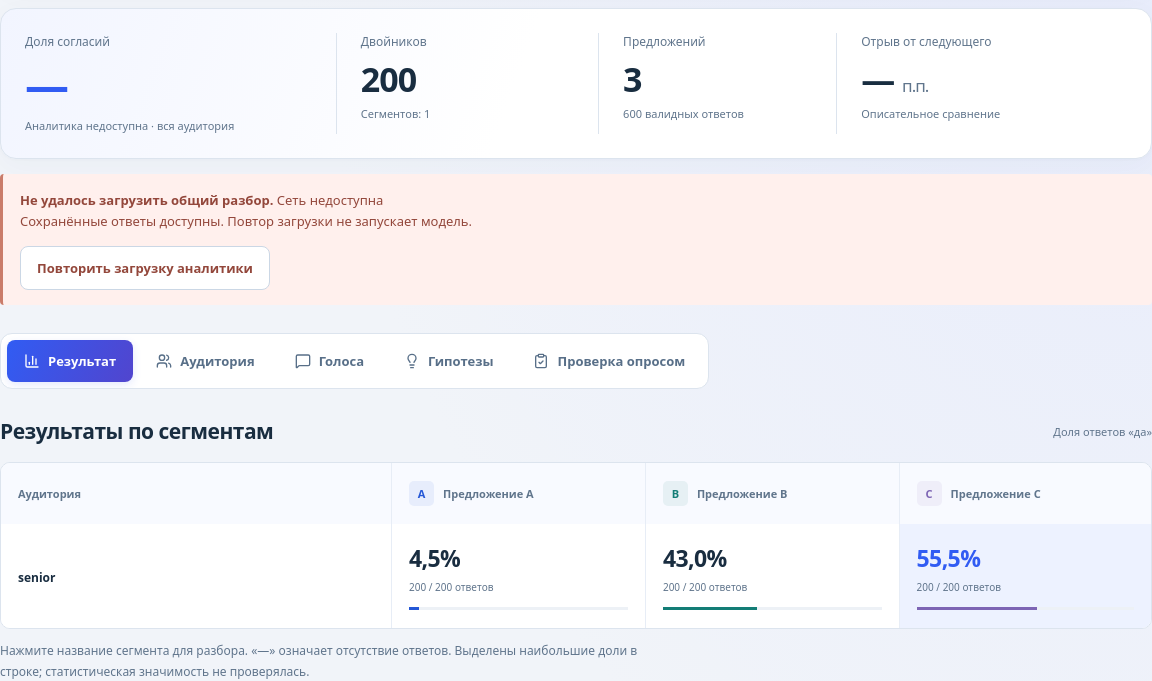
Scenario: stops loading after an error and recovers without rerunning a model
(page scrolled)
Expected: the message shows "Сеть недоступна", 277,191 -> 383,209
Click the tab "Гипотезы".
click(449, 361)  # box 387,340 -> 510,382
(page scrolled)
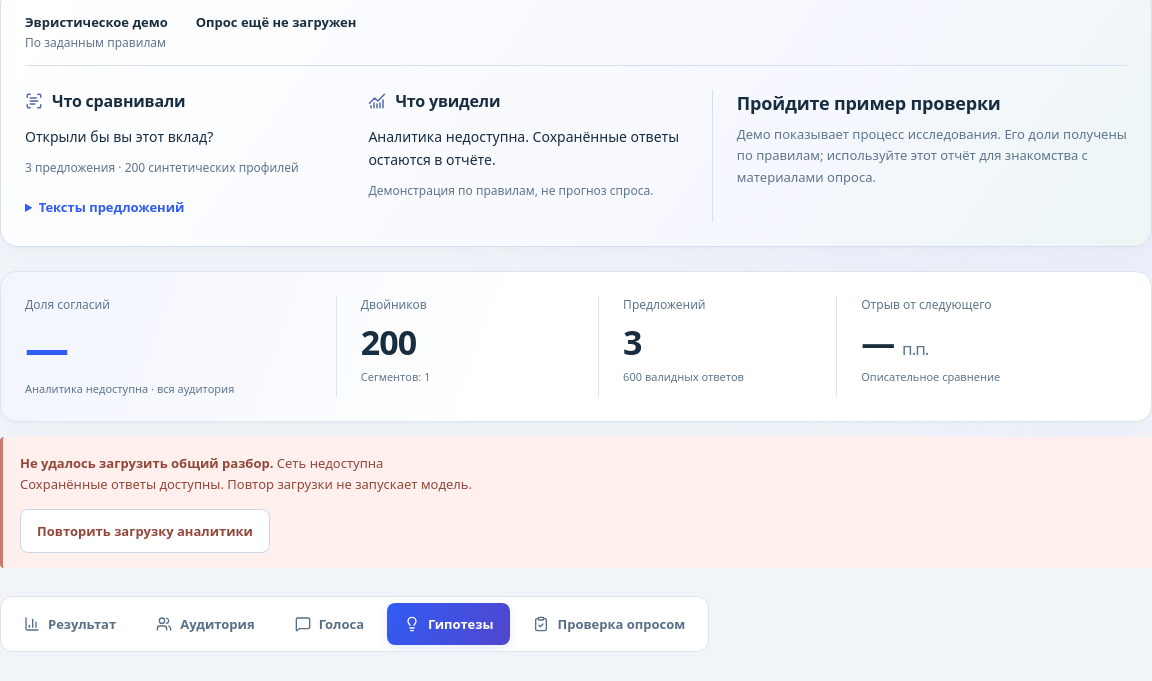
Click the tab "Проверка опросом".
click(609, 624)  # box 516,603 -> 702,645
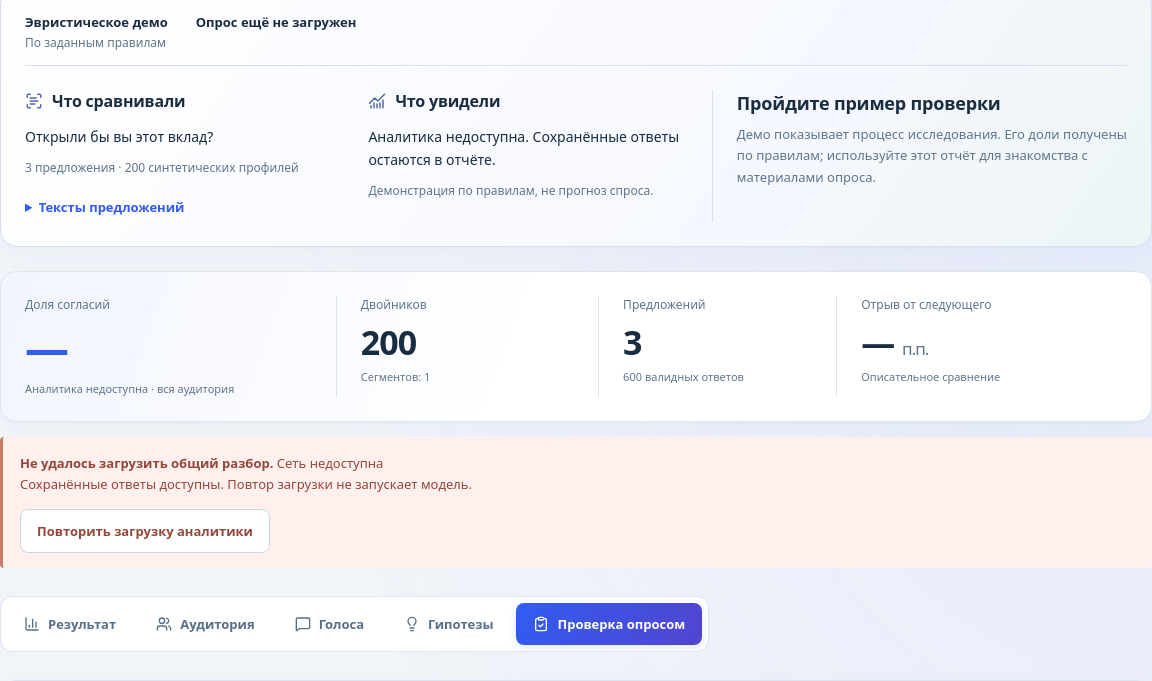
Click the button "Повторить загрузку аналитики".
click(145, 531)  # box 20,509 -> 270,553
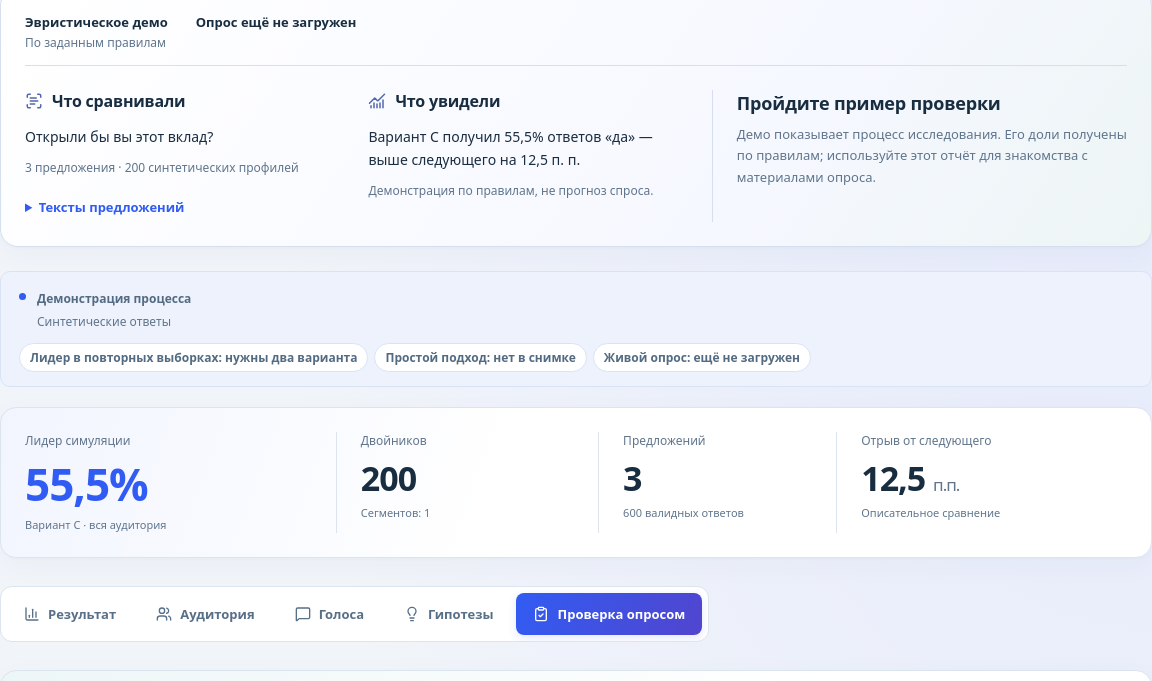
Now the text "Лидер симуляции" is shown, box 25,432 -> 130,449
